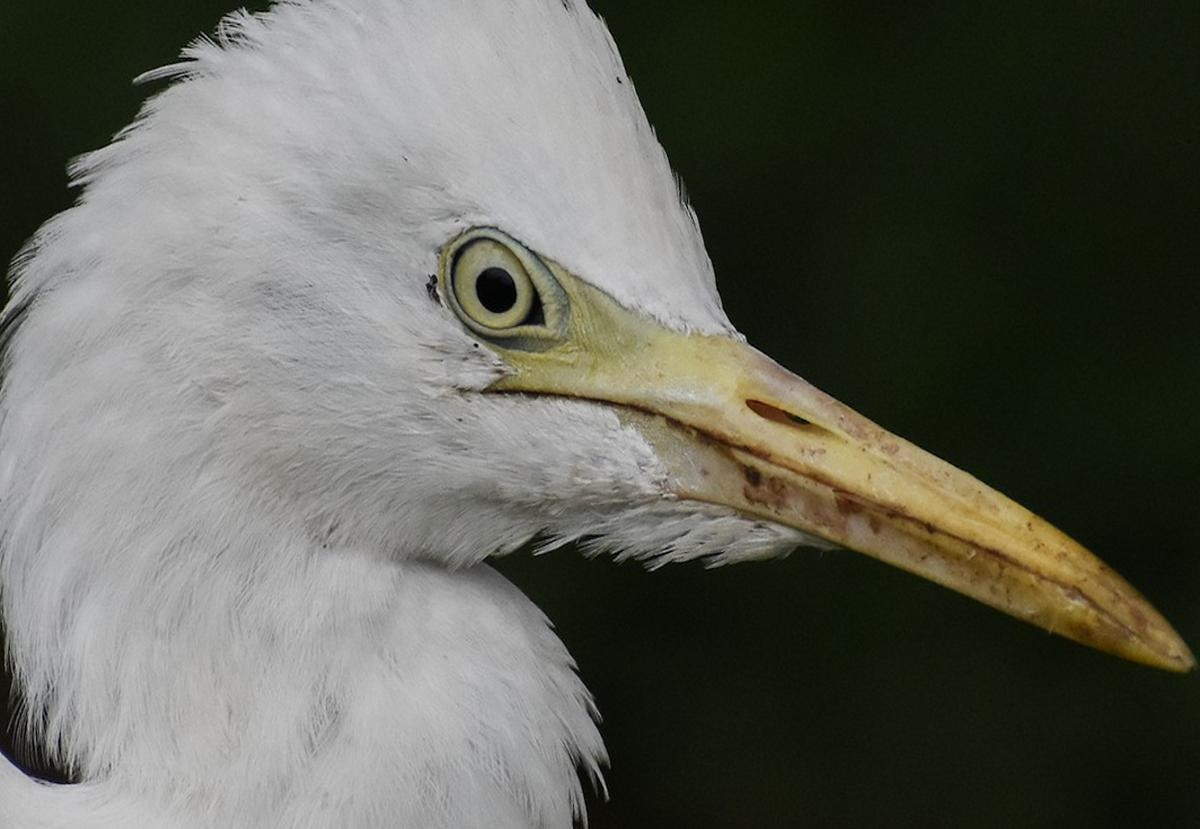egret: (1, 10, 1186, 829)
